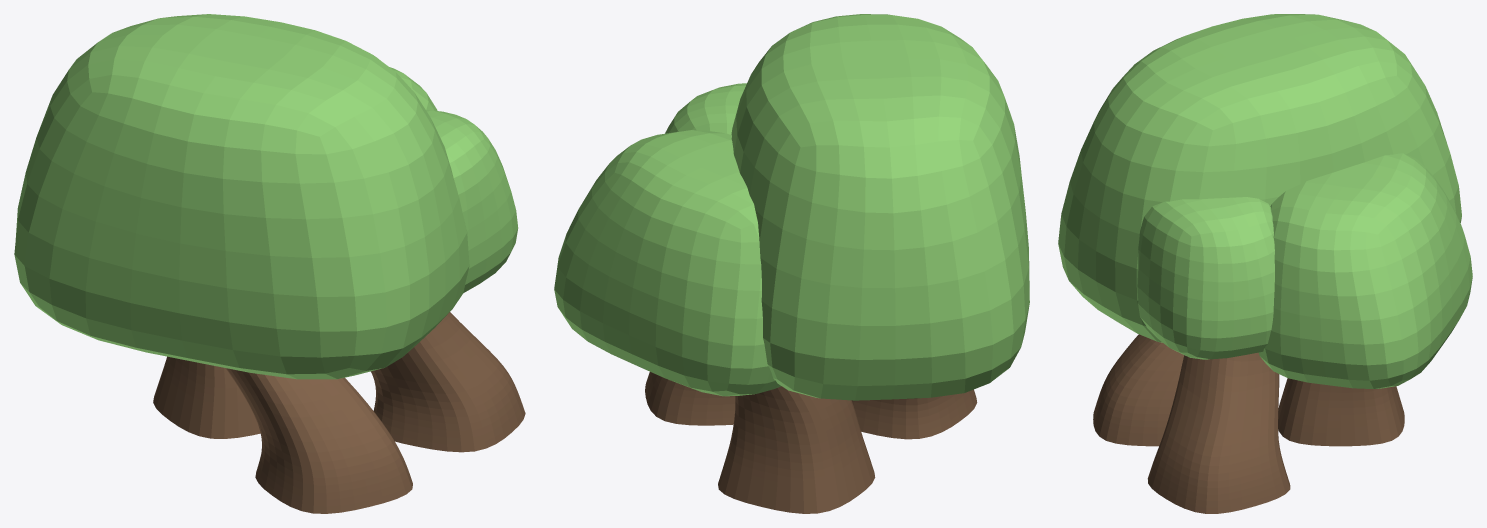
Rendered from Bush.fbx.
3 renders of one model, left to right at view 1: azimuth 30°, elevation 25°; view 2: azimuth 150°, elevation 25°; view 3: azimuth 270°, elevation 25°, orthographic. The views are drawn at different scales.
Visible parts, largest first — view 1: Cube; view 2: Cube; view 3: Cube.
Part boxes in pixels (x1,y1,x2,y2): Cube: (14,14,525,513); Cube: (554,14,1029,513); Cube: (1058,14,1472,513).
Size of the model in its own units: 749 by 662 by 698.
